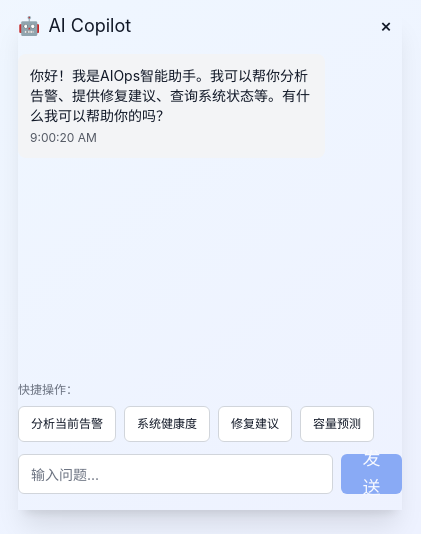
AICopilot Component › Quick Actions › should hide quick actions after first message
The image size is (421, 534).
Type "Test" into the field with placeholder "输入问题..." at (175,474), box [18, 454, 333, 494]
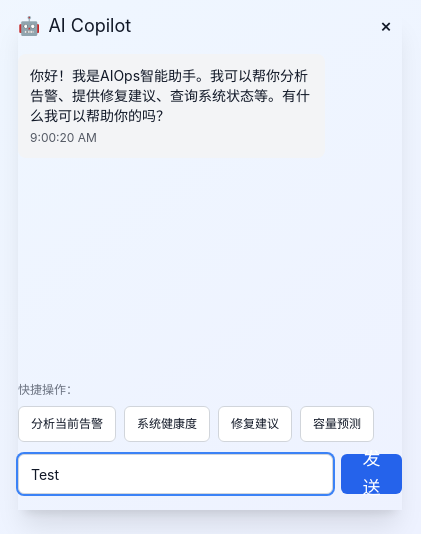
Click the button "发送" at (371,474), box [341, 454, 402, 494]
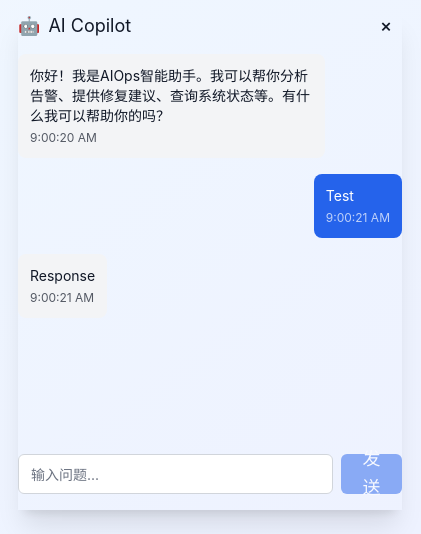
expect the text "快捷操作：" is gone: met
